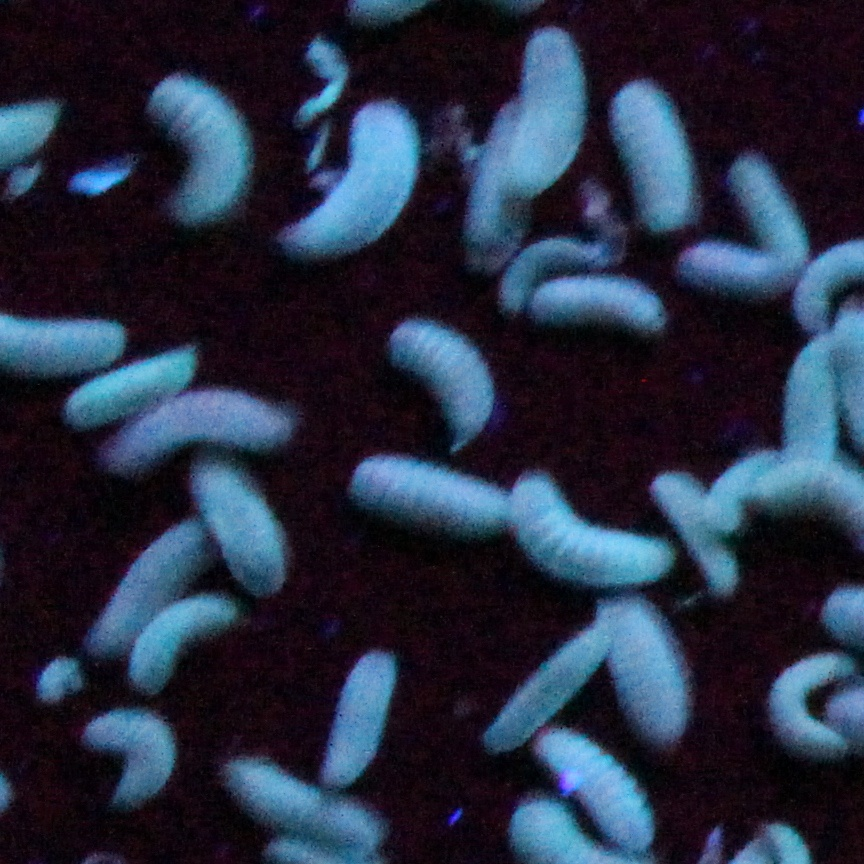larve: (275, 85, 422, 267), (140, 67, 254, 234), (516, 458, 656, 593), (599, 81, 696, 237), (350, 457, 509, 552), (384, 313, 493, 448), (600, 609, 699, 749), (64, 712, 192, 818), (505, 27, 587, 192), (207, 467, 299, 593), (320, 629, 392, 789), (163, 392, 287, 464), (1, 308, 128, 376), (135, 612, 245, 686), (757, 658, 836, 760), (738, 127, 794, 264), (664, 473, 717, 608), (783, 332, 839, 458), (216, 759, 313, 824), (503, 654, 588, 726), (127, 518, 193, 608), (542, 288, 661, 334), (667, 267, 787, 307), (48, 377, 152, 416), (567, 745, 631, 807), (5, 102, 63, 155)
